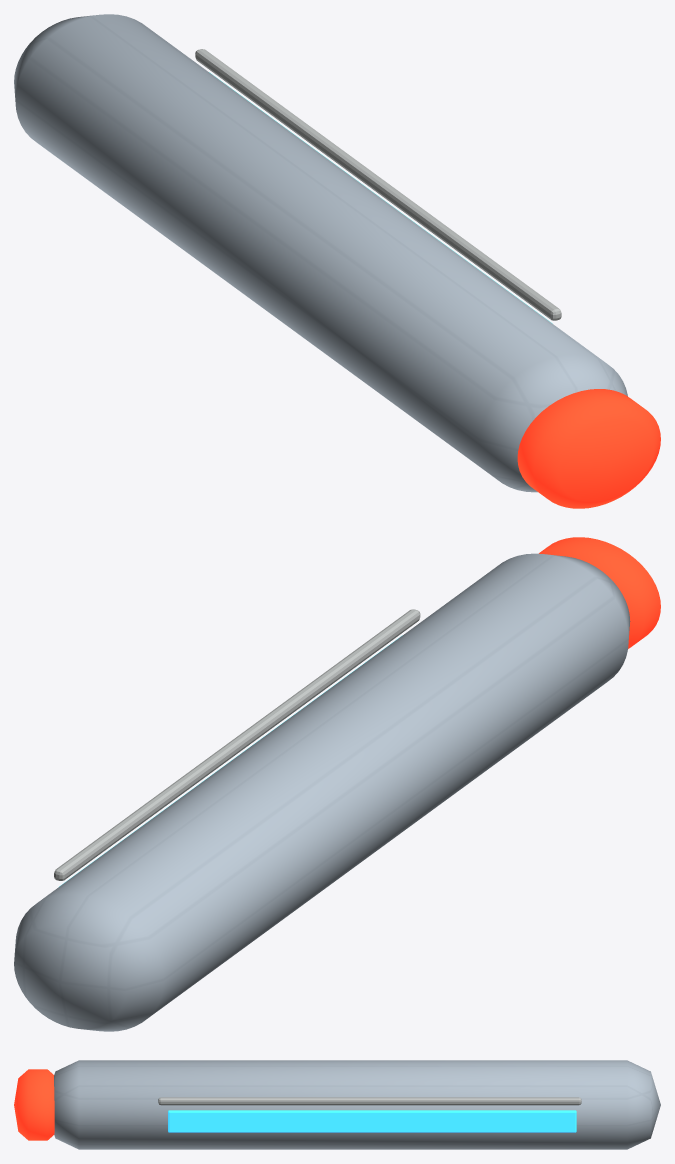
The model's file is OriginalCruiser_Nacelle_B.glb.
3 renders of one model, top to bottom at view 1: azimuth 30°, elevation 25°; view 2: azimuth 150°, elevation 25°; view 3: azimuth 270°, elevation 25°, orthographic. The views are drawn at different scales.
Visible parts, largest first — view 1: OriginalCruiser_Nacelle_B; view 2: OriginalCruiser_Nacelle_B; view 3: OriginalCruiser_Nacelle_B.
Part boxes in pixels (x1=…): OriginalCruiser_Nacelle_B: x1=14, y1=14, x2=660, y2=508; OriginalCruiser_Nacelle_B: x1=14, y1=537, x2=660, y2=1031; OriginalCruiser_Nacelle_B: x1=14, y1=1060, x2=660, y2=1149.
Size of the model in its own units: 50.8 by 43.03 by 322.
1 material, 1 textured.
